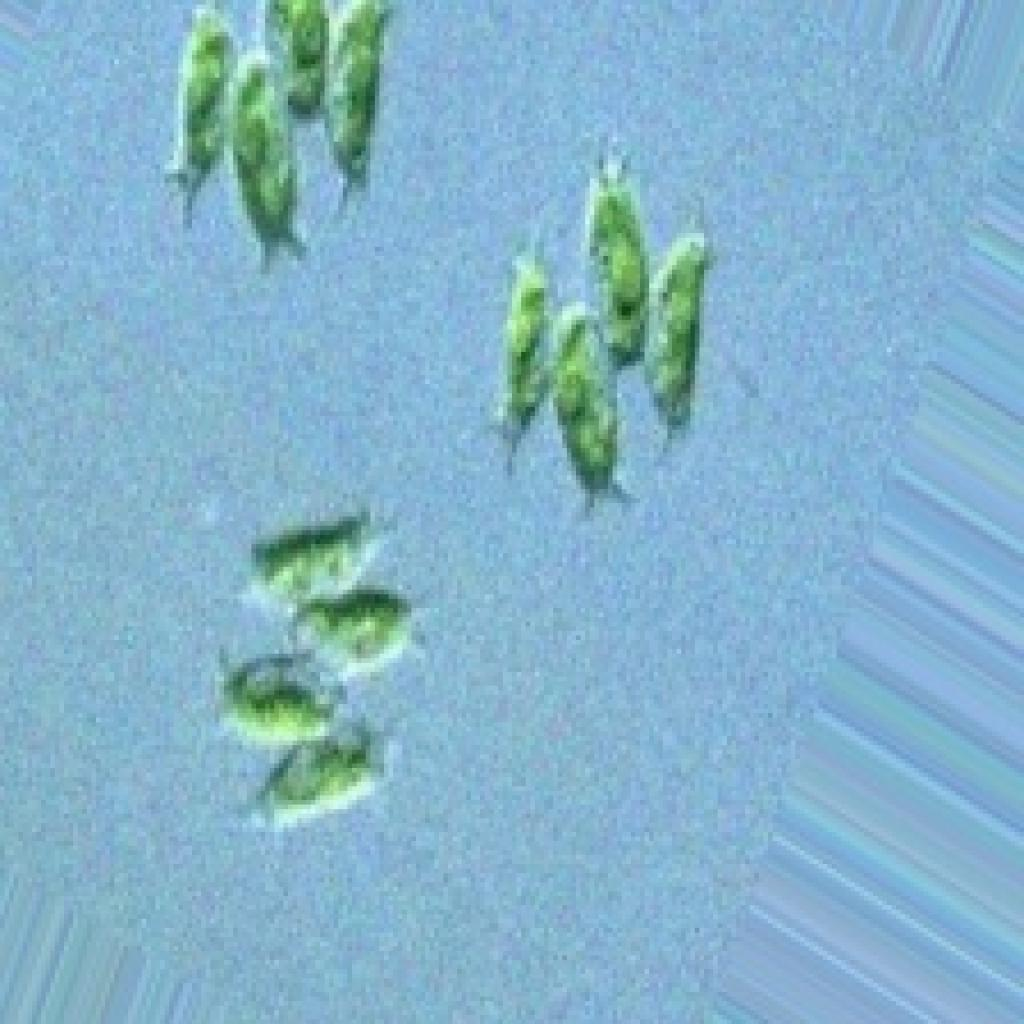Microalgae: (168, 397, 440, 886), (485, 133, 713, 512), (160, 0, 393, 270)
